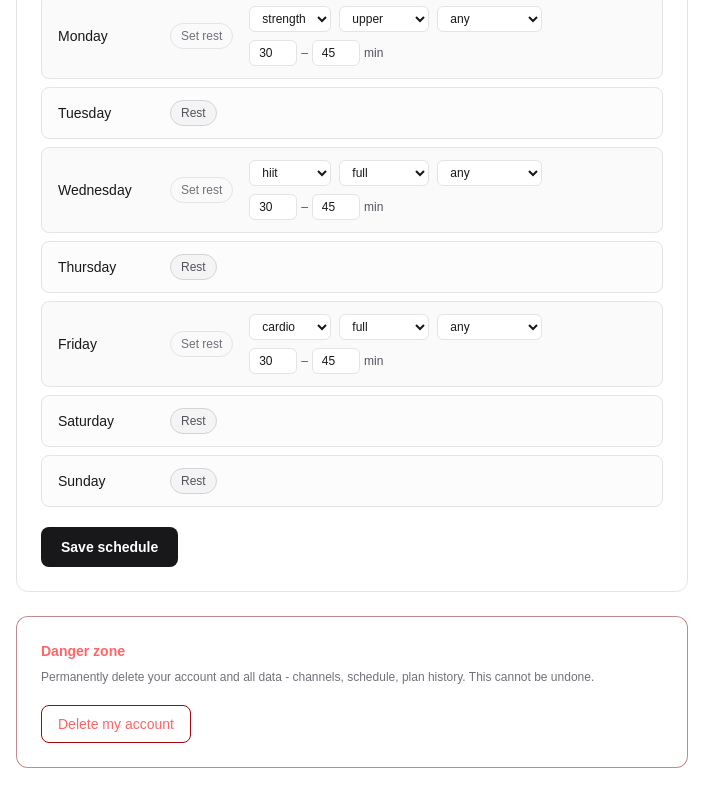
it: SettingsPage - schedule › shows success message after schedule save
The image size is (705, 785).
(page scrolled)
Click the button "Save schedule" at {"x": 110, "y": 547}, box [41,527,178,567]
(page scrolled)
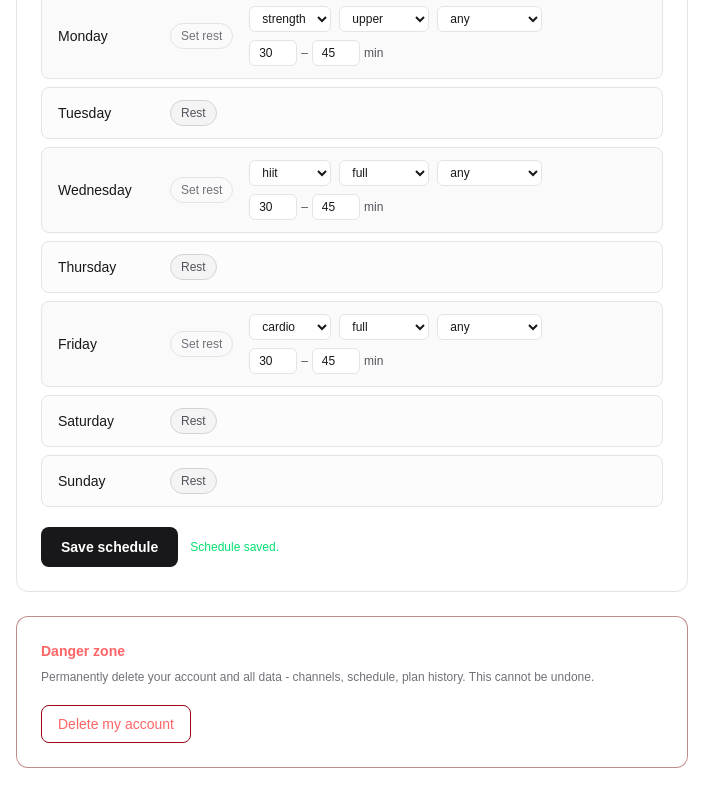
Expected: the text "Schedule saved." is shown, [190,539,279,555]
